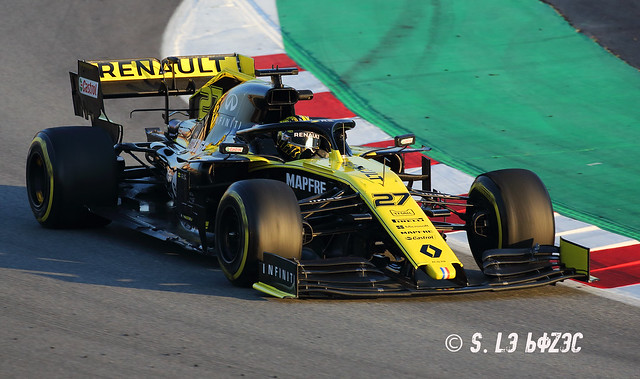F1 Car: (20, 50, 600, 300)
